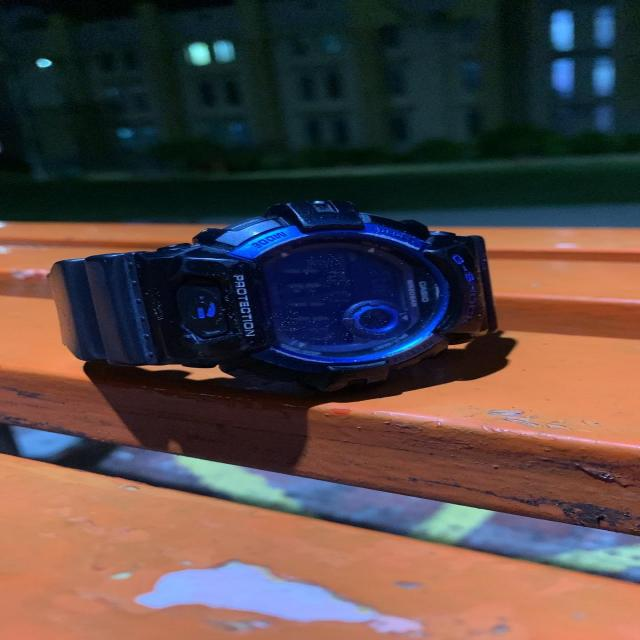Others: (41, 188, 574, 414)
